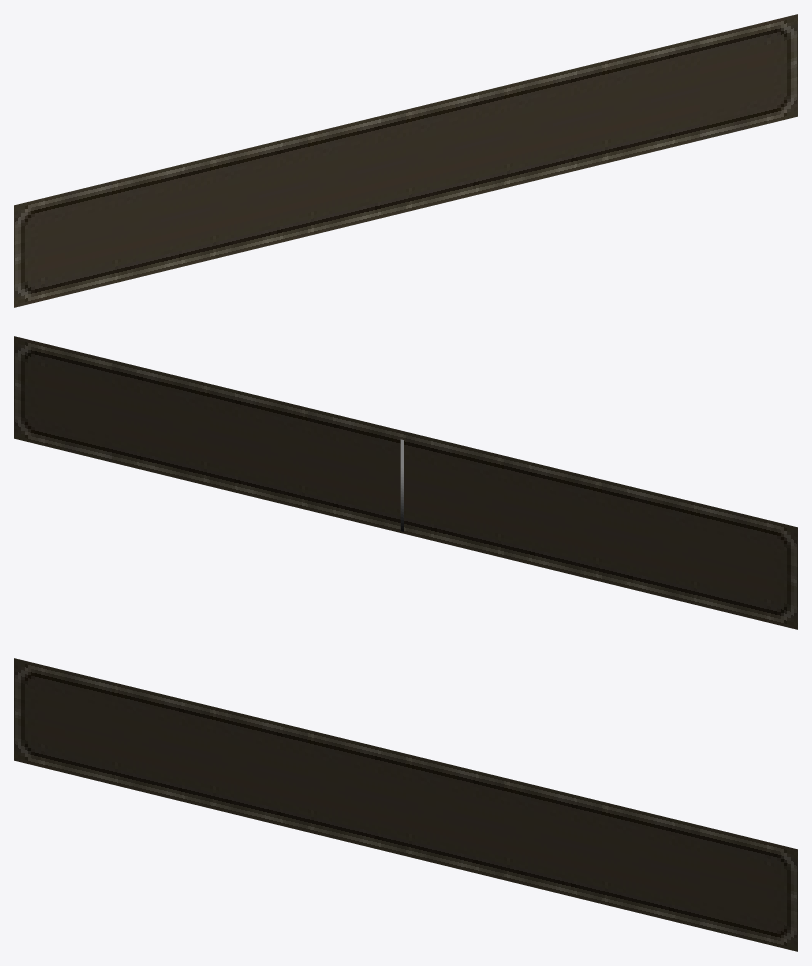
File: pir_m_gui_gen_loadingBar.fbx
3 renders of one model, top to bottom at view 1: azimuth 30°, elevation 25°; view 2: azimuth 150°, elevation 25°; view 3: azimuth 330°, elevation 25°, orthographic.
Visible parts, largest first — view 1: loading_bar_frame_middle, loading_bar_frame_right, loading_bar_frame_left; view 2: loading_bar_frame_middle, loading_bar_frame_right, loading_bar_frame_left; view 3: loading_bar_frame_middle, loading_bar_frame_right, loading_bar_frame_left.
Boxes of the visible parts, box(x1,y1,x2,y2) form: loading_bar_frame_middle: box(112, 38, 699, 283); loading_bar_frame_right: box(700, 14, 797, 140); loading_bar_frame_left: box(14, 181, 111, 307); loading_bar_frame_middle: box(112, 360, 699, 605); loading_bar_frame_right: box(14, 336, 111, 462); loading_bar_frame_left: box(700, 503, 797, 629); loading_bar_frame_middle: box(112, 682, 699, 927); loading_bar_frame_right: box(700, 825, 797, 951); loading_bar_frame_left: box(14, 658, 111, 784).
Bounding box in the file's own units: 840 × 105 × 6.76.
Materials: 2 (2 with a texture image).
